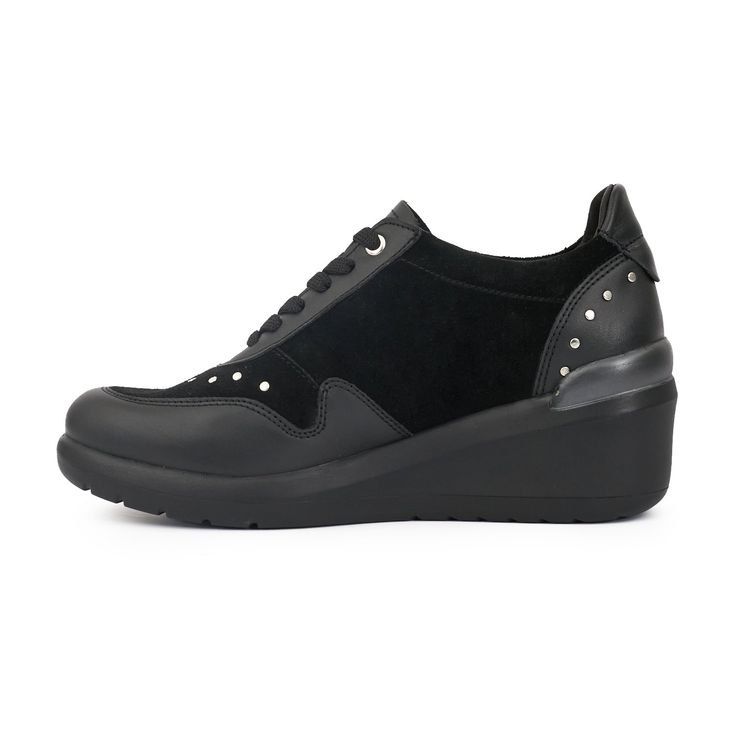gamuza: (109, 231, 622, 434)
